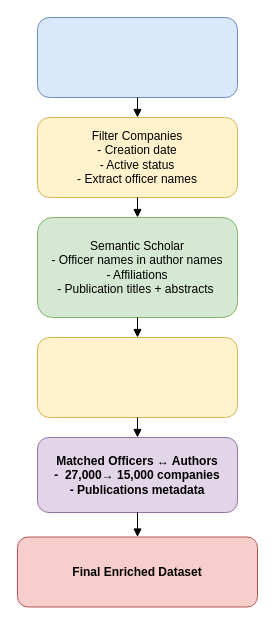
Image size: 275x625. Some labels were removed from this diagram. The box of each missing label's shape, as (x1, y1, x2, y2) in pixels:
OpenCorporates - Country - Industry code: (36, 16, 238, 98)
Query & Filter Authors - Disambiguation - Filter by field: (36, 336, 238, 418)
